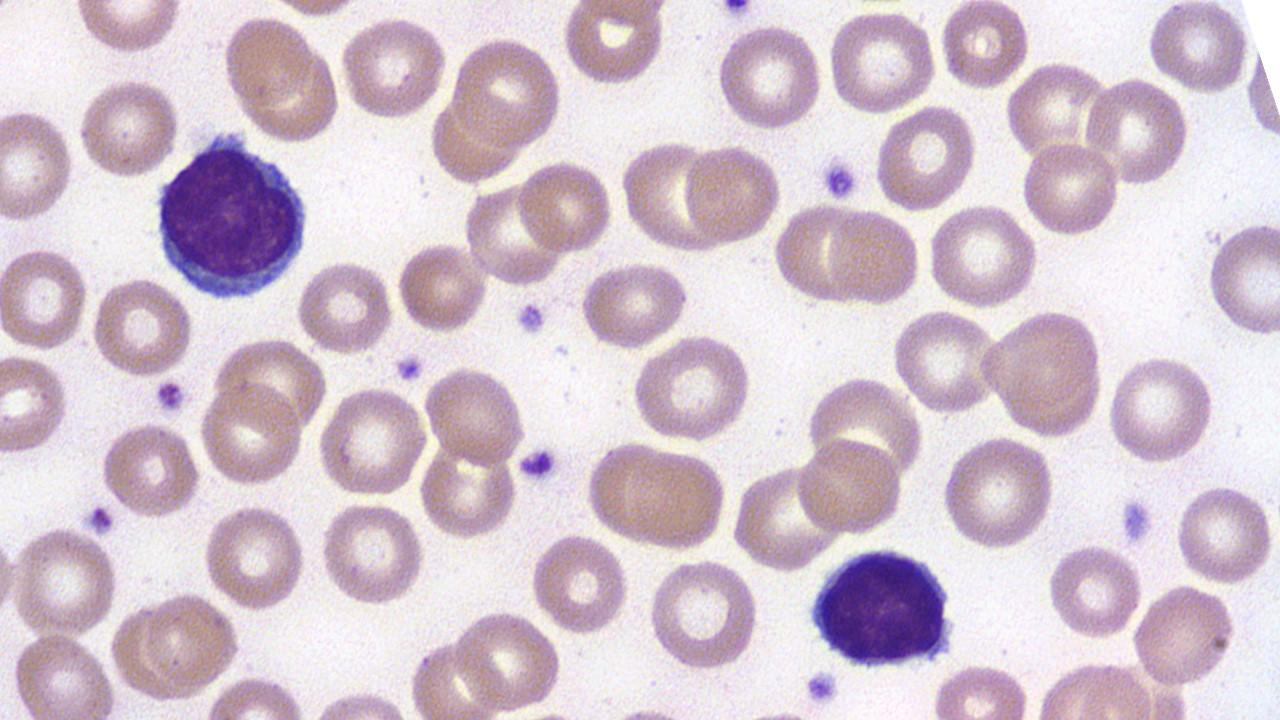Platelets: (818, 152, 860, 204), (1118, 492, 1154, 546), (516, 444, 560, 483), (802, 666, 840, 708), (152, 376, 189, 414), (514, 299, 546, 337), (85, 502, 117, 538), (392, 352, 427, 384), (713, 0, 760, 21)
RBC: (982, 305, 1106, 439), (583, 438, 729, 550), (646, 556, 764, 674), (940, 433, 1057, 552), (630, 332, 754, 444), (9, 522, 122, 640), (450, 33, 565, 148), (1103, 352, 1217, 466), (316, 384, 430, 498), (804, 373, 924, 481), (823, 7, 939, 116), (729, 460, 839, 574), (925, 202, 1041, 308), (889, 306, 1000, 416), (714, 22, 824, 132), (316, 499, 428, 607), (452, 607, 564, 715), (1083, 75, 1191, 186), (338, 13, 448, 121), (1130, 580, 1240, 688), (199, 381, 306, 490), (874, 102, 980, 212), (203, 501, 308, 612), (1002, 60, 1114, 163), (210, 336, 330, 432), (422, 362, 530, 468), (88, 274, 195, 380), (74, 76, 182, 181), (794, 435, 904, 538), (462, 182, 566, 288), (681, 140, 785, 245), (529, 530, 631, 637), (1172, 482, 1278, 584), (96, 420, 204, 519), (141, 590, 243, 692), (578, 259, 692, 350), (1019, 139, 1123, 238), (416, 442, 520, 540), (294, 257, 396, 356), (774, 200, 870, 305), (0, 244, 91, 353), (824, 205, 922, 306), (1046, 541, 1144, 642), (514, 159, 616, 256), (1143, 2, 1251, 93), (10, 628, 119, 718), (394, 238, 491, 336), (560, 0, 668, 88), (0, 104, 78, 225), (220, 12, 317, 108), (1204, 217, 1280, 338), (937, 0, 1032, 93), (0, 350, 72, 458), (926, 659, 1036, 717), (71, 2, 187, 57), (202, 674, 312, 718), (1243, 41, 1279, 143), (0, 518, 20, 628)
WBC: (150, 129, 314, 305), (804, 543, 960, 671)
